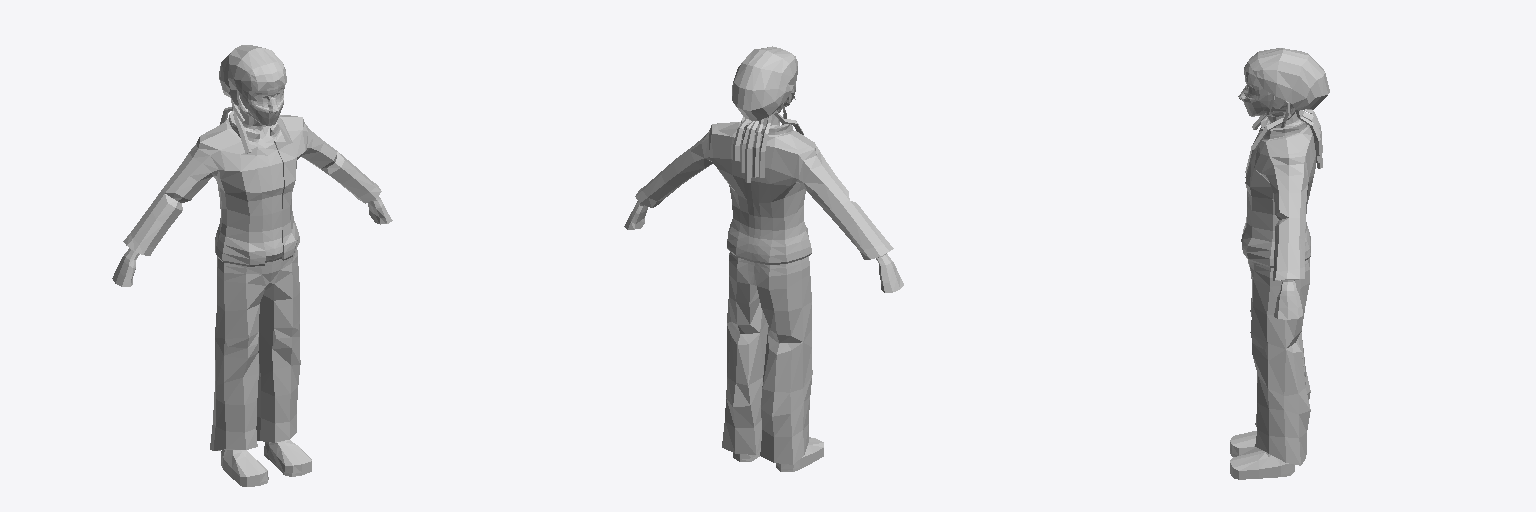
Rendered from Blake.obj.
3 renders of one model, left to right at view 1: azimuth 30°, elevation 25°; view 2: azimuth 150°, elevation 25°; view 3: azimuth 270°, elevation 25°, orthographic.
Visible parts, largest first — view 1: Cube.015; view 2: Cube.015; view 3: Cube.015.
Part boxes in pixels (x1,y1,x2,y2): Cube.015: (112, 45, 392, 486); Cube.015: (624, 46, 903, 471); Cube.015: (1230, 48, 1329, 479).
Bounding box in the file's own units: 3.62 × 5.22 × 1.15.